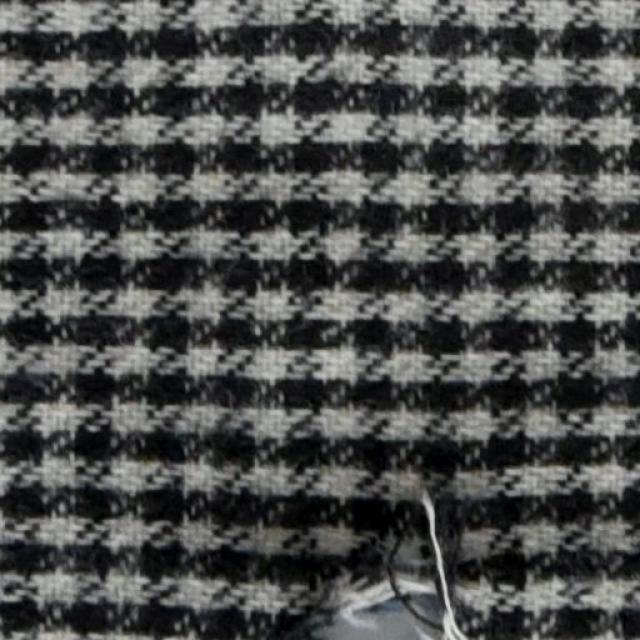Hole: (322, 601, 445, 638)
Snag: (378, 487, 469, 640)
